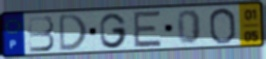0: (175, 9, 202, 47)
B: (26, 14, 57, 54)
D: (58, 12, 89, 54)
E: (132, 10, 163, 49)
G: (98, 12, 128, 50)
O: (208, 7, 238, 46)
